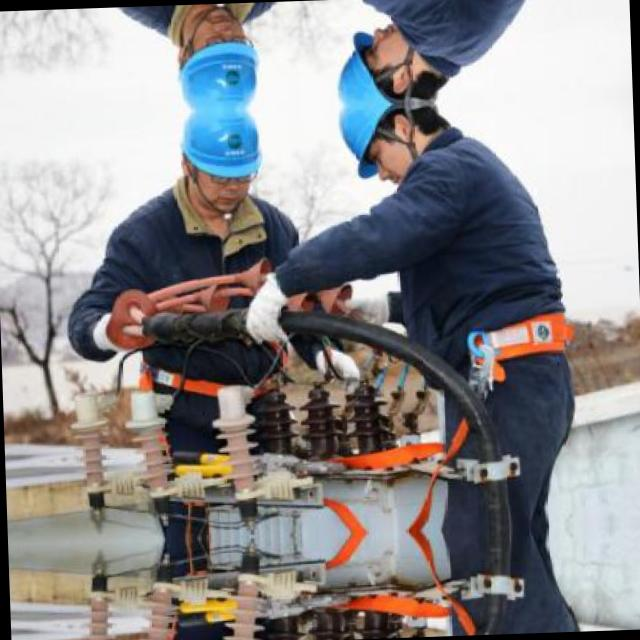helmet: (172, 108, 270, 221), (167, 2, 266, 111), (328, 102, 458, 180), (324, 28, 454, 106)
